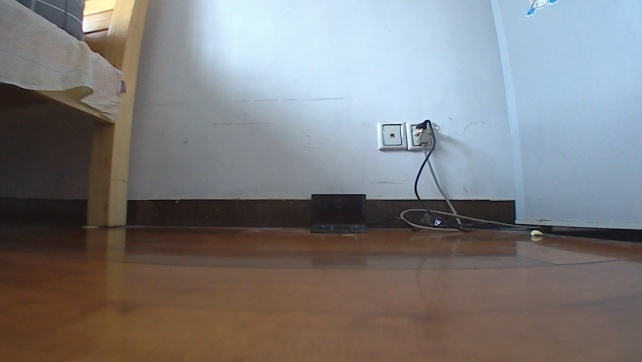charger: (305, 191, 370, 236)
wire: (367, 118, 538, 236)
